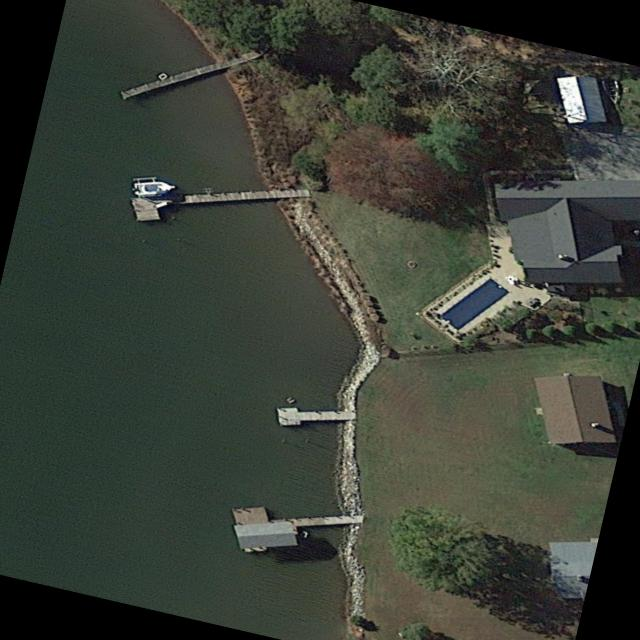ship: (131, 178, 176, 195)
